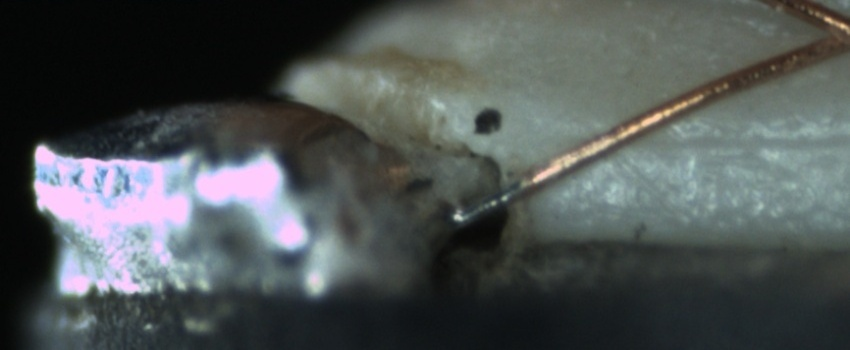CL: (794, 4, 850, 61)
DL: (608, 106, 845, 174)
TS: (444, 173, 522, 226)
